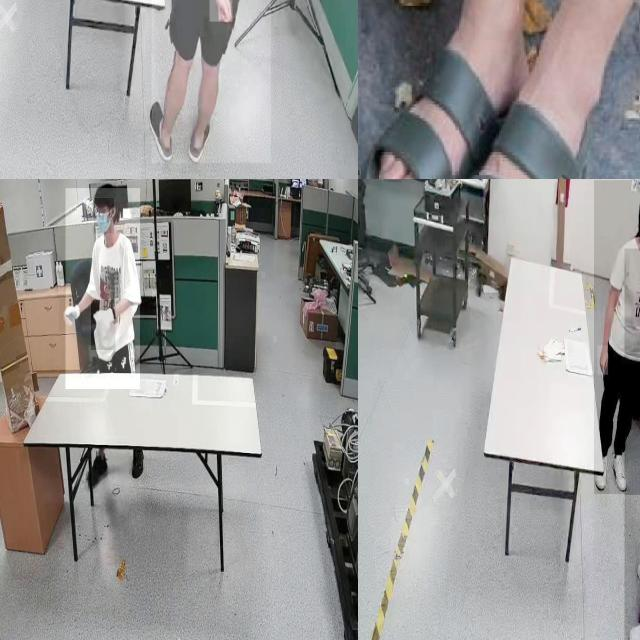Sandals: (433, 50, 604, 179), (358, 14, 491, 179)
face_mask: (94, 198, 114, 234)
hand_glove: (91, 300, 116, 351), (59, 296, 83, 332)
hand_noglove: (209, 0, 232, 22), (598, 346, 608, 376)
head_nohelmet: (93, 183, 117, 198)
person: (151, 0, 271, 163), (66, 188, 140, 390), (594, 180, 640, 494)
shoes: (145, 101, 173, 160), (184, 112, 213, 165), (610, 441, 630, 493), (84, 449, 108, 492), (128, 446, 148, 481)
